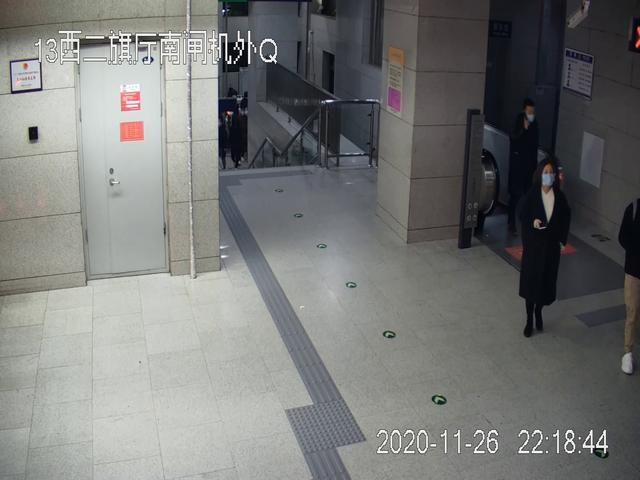person: (520, 159, 572, 337), (510, 103, 539, 244)
